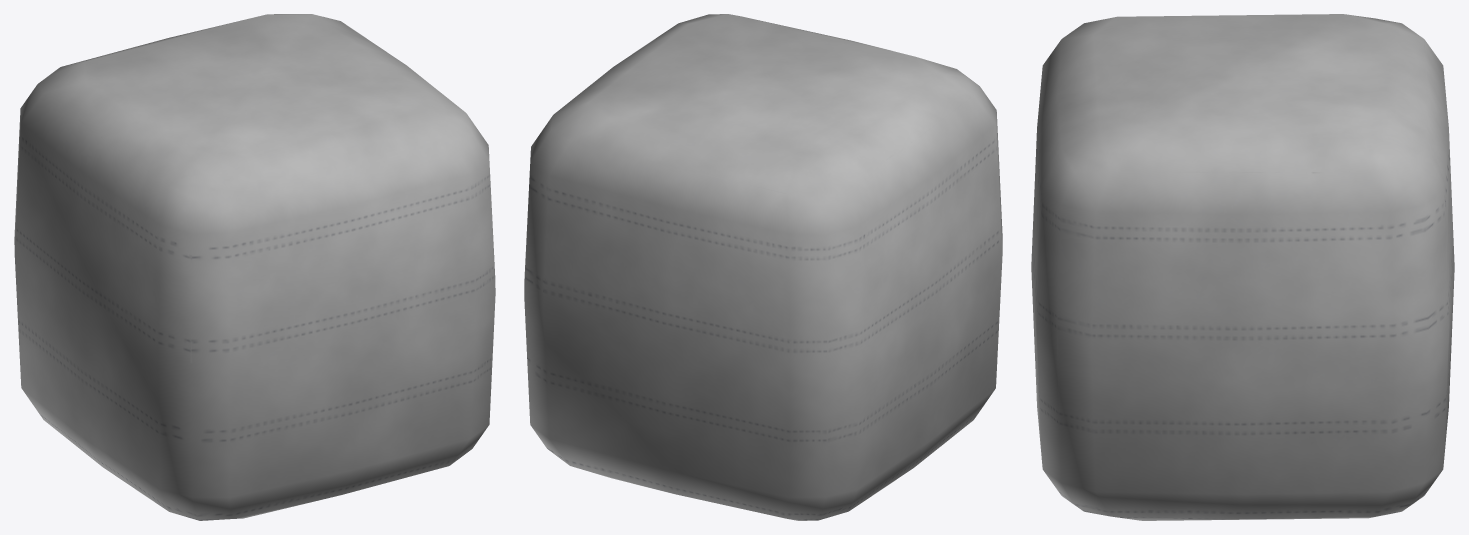
Rendered from LeftUpperArm_C1.fbx.
The picture shows the model from 3 angles, left to right: view 1: azimuth 30°, elevation 25°; view 2: azimuth 150°, elevation 25°; view 3: azimuth 270°, elevation 25°; orthographic projection. The views are drawn at different scales.
Visible parts, largest first — view 1: Civ_PilotoLargo_LeftUpperArm_C1; view 2: Civ_PilotoLargo_LeftUpperArm_C1; view 3: Civ_PilotoLargo_LeftUpperArm_C1.
Part boxes in pixels (<box>): Civ_PilotoLargo_LeftUpperArm_C1: <box>14,14,495,520</box>; Civ_PilotoLargo_LeftUpperArm_C1: <box>524,14,1002,520</box>; Civ_PilotoLargo_LeftUpperArm_C1: <box>1031,14,1454,520</box>.
Bounding box in the file's own units: 1.29 × 1.31 × 1.29.
